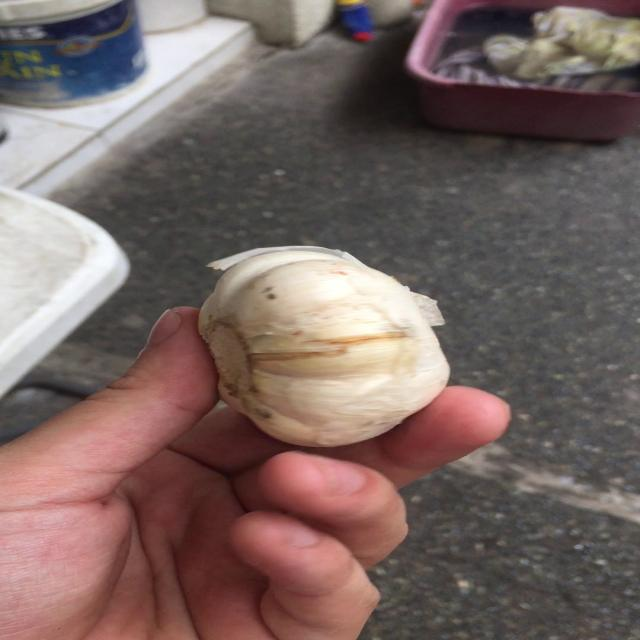garlic: (188, 242, 458, 451)
